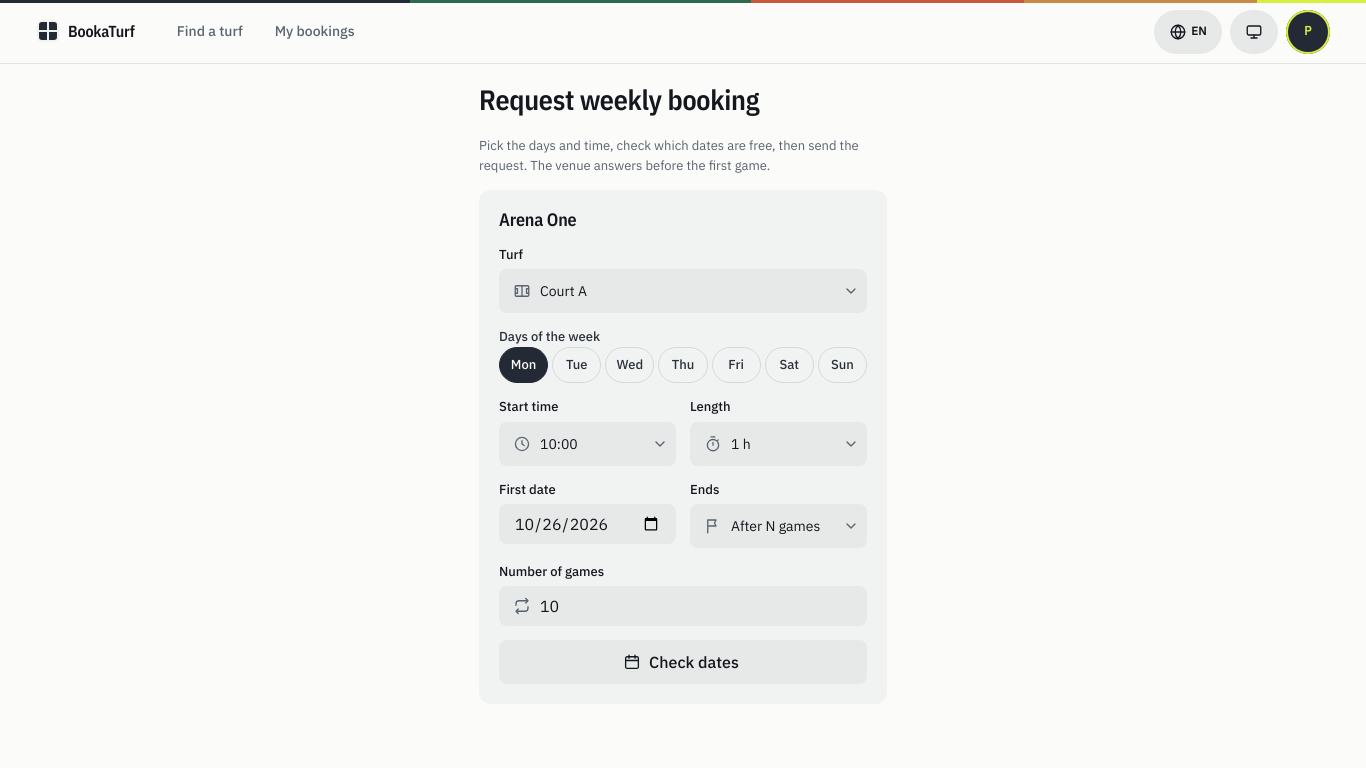
Test: request weekly booking › the preview shows the platform fee only when the player pays it (owner)
Expected: the dropdown labelled "Start time" shows "10:00", x1=499 y1=422 x2=676 y2=466
Click the button "Check dates" at (683,662), box x1=499 y1=640 x2=867 y2=684
(page scrolled)
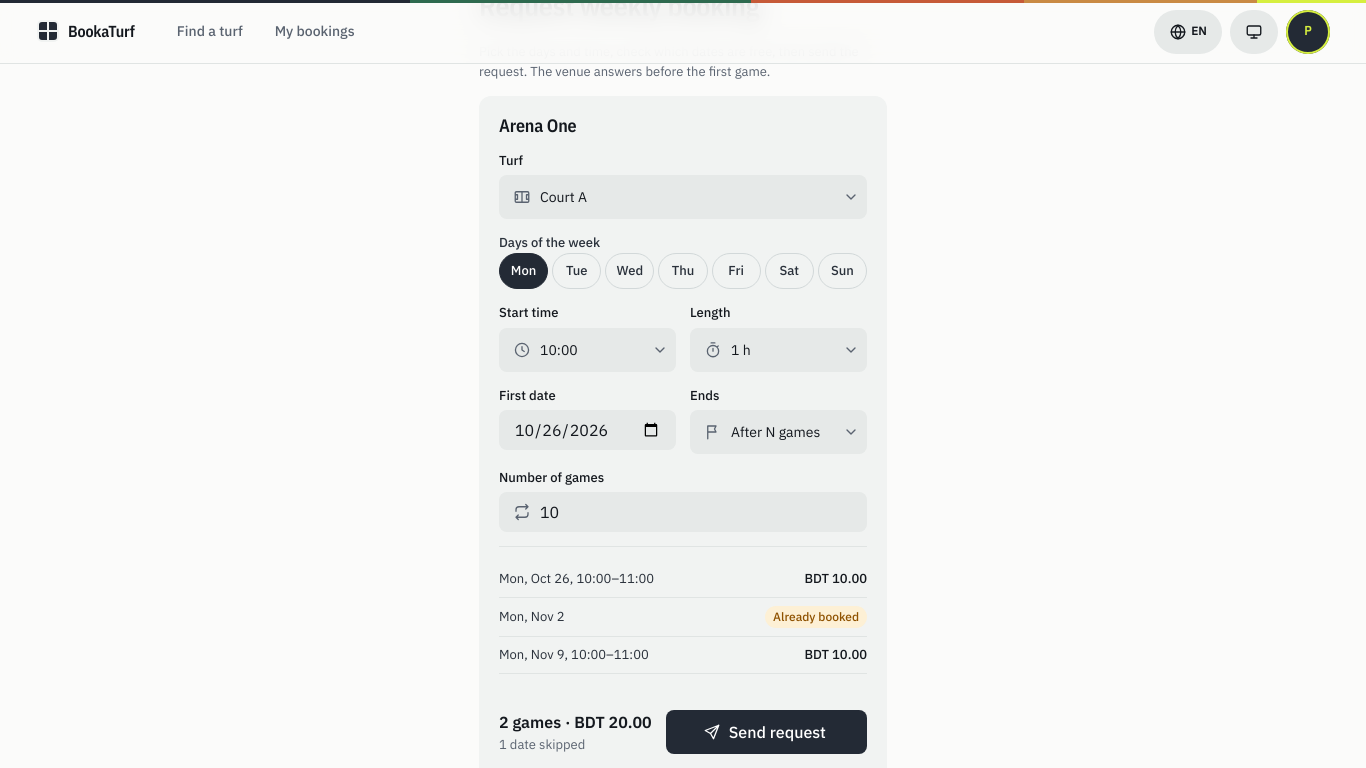
Now the list named "Dates in this series" is shown, box x1=499 y1=561 x2=867 y2=674
Now the text "2 games · BDT 20.00" is shown, box x1=499 y1=710 x2=652 y2=735
